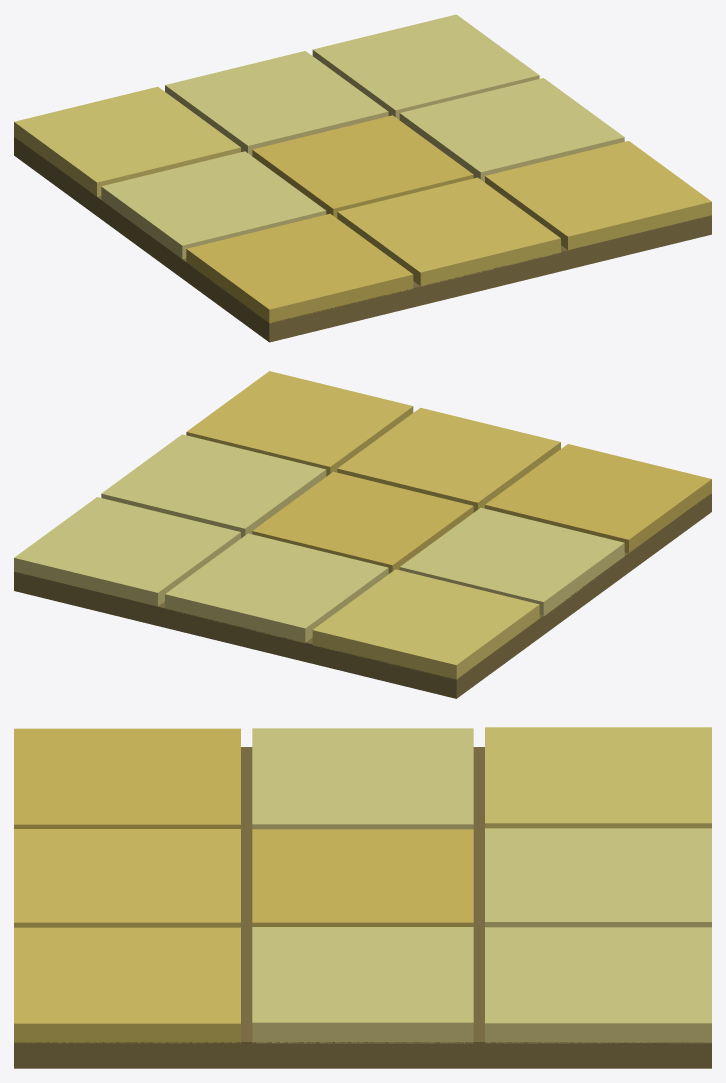
File: gold_lowpoly.glb
The picture shows the model from 3 angles, top to bottom: view 1: azimuth 30°, elevation 25°; view 2: azimuth 150°, elevation 25°; view 3: azimuth 270°, elevation 25°; orthographic projection. The views are drawn at different scales.
Visible parts, largest first — view 1: GoldTile; view 2: GoldTile; view 3: GoldTile.
Part boxes in pixels (x1=…): GoldTile: x1=14, y1=14, x2=711, y2=342; GoldTile: x1=14, y1=371, x2=711, y2=698; GoldTile: x1=14, y1=727, x2=711, y2=1068.
Size of the model in its own units: 1 by 0.0729 by 1.
